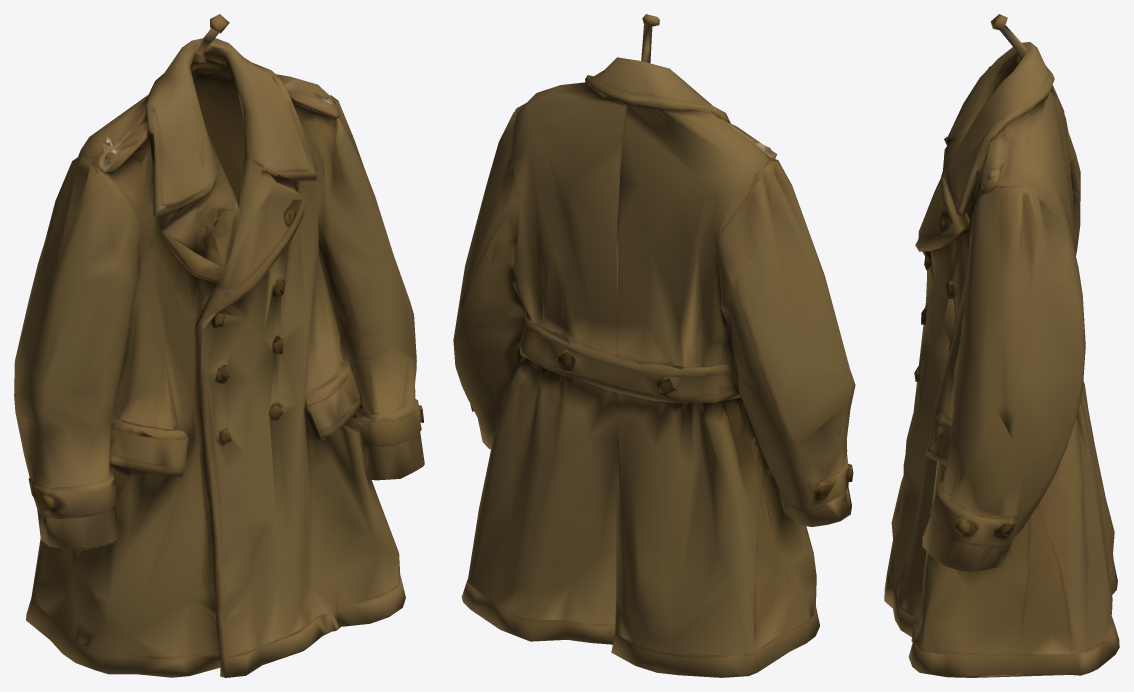
Rendered from WW1Coat.fbx.
The picture shows the model from 3 angles, left to right: view 1: azimuth 30°, elevation 25°; view 2: azimuth 150°, elevation 25°; view 3: azimuth 270°, elevation 25°; orthographic projection.
Parts seen in each view (by area): view 1: WW1CoatLOD0; view 2: WW1CoatLOD0; view 3: WW1CoatLOD0.
Boxes of the visible parts, <box> form: WW1CoatLOD0: <box>14,14,424,677</box>; WW1CoatLOD0: <box>453,14,855,677</box>; WW1CoatLOD0: <box>884,14,1119,677</box>.
Size of what is drawn, in the model's own units: 39.52 by 60.02 by 21.3.
